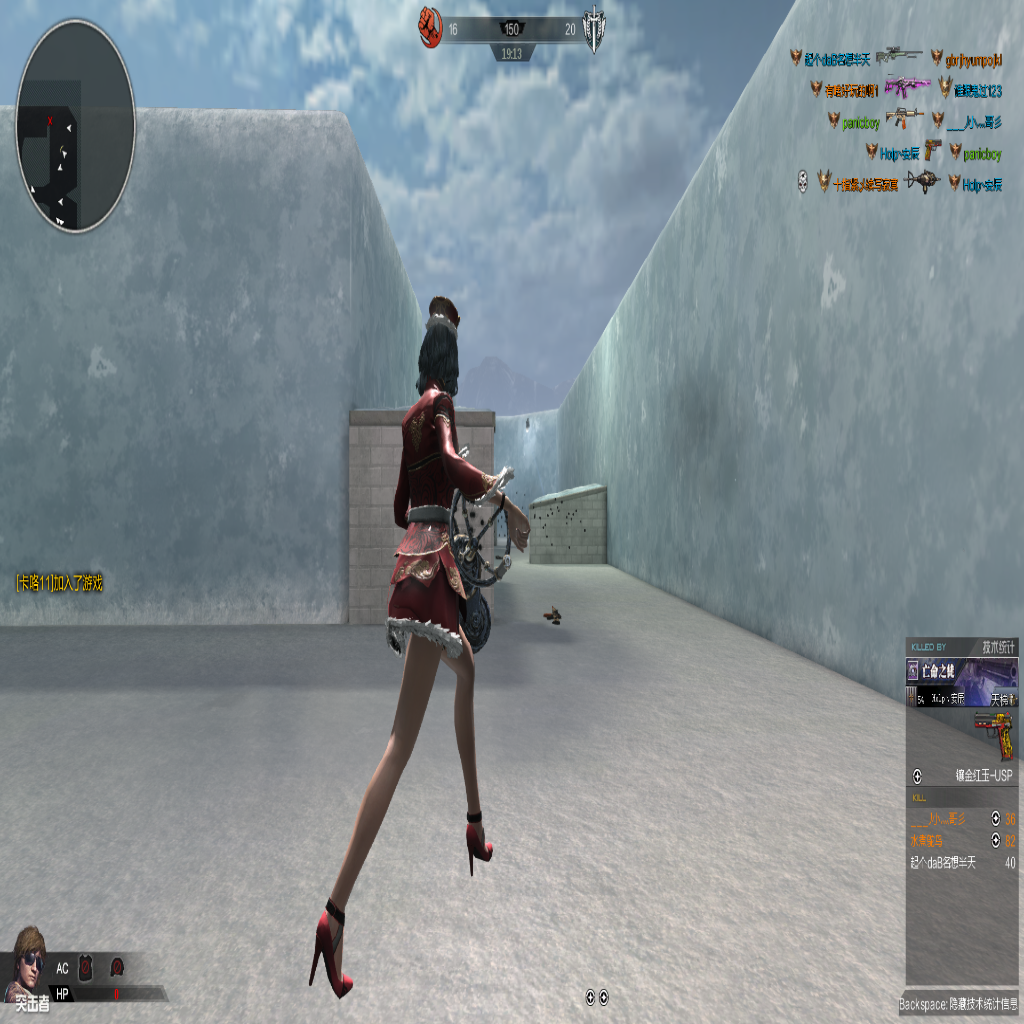tt: (308, 259, 509, 959)
